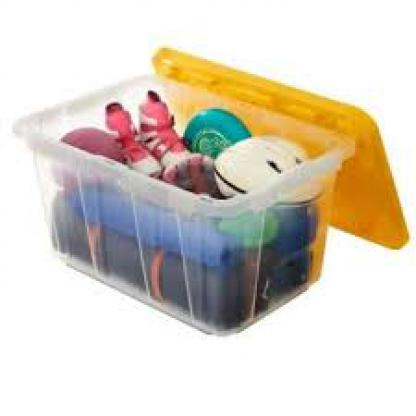plastic_box: (7, 33, 412, 340)
